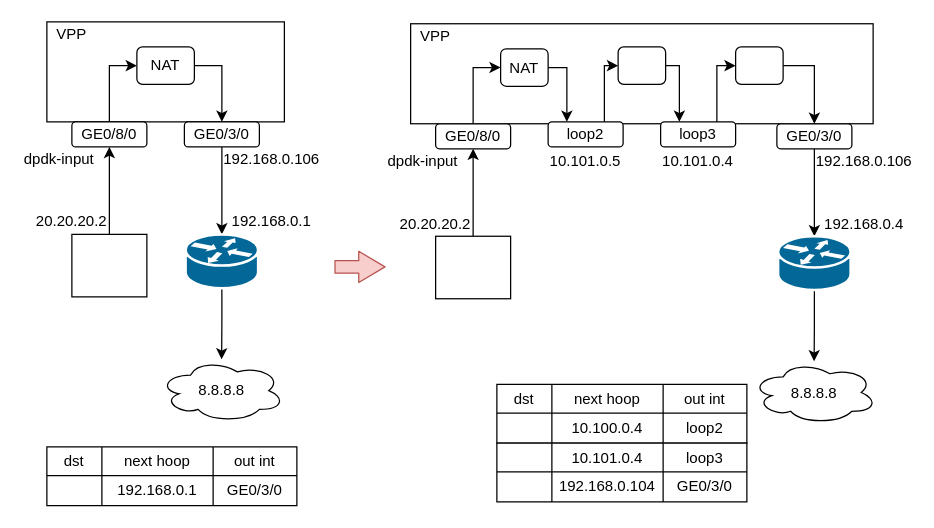
Some shapes in this 934 by 528 pixel diagram are drawn without their labels. The shapes that lost their labels are listed below. From the top down, each one's centre as x and y in pixels, then its label:
point (641, 65): IPSec
point (758, 65): VxLAN
